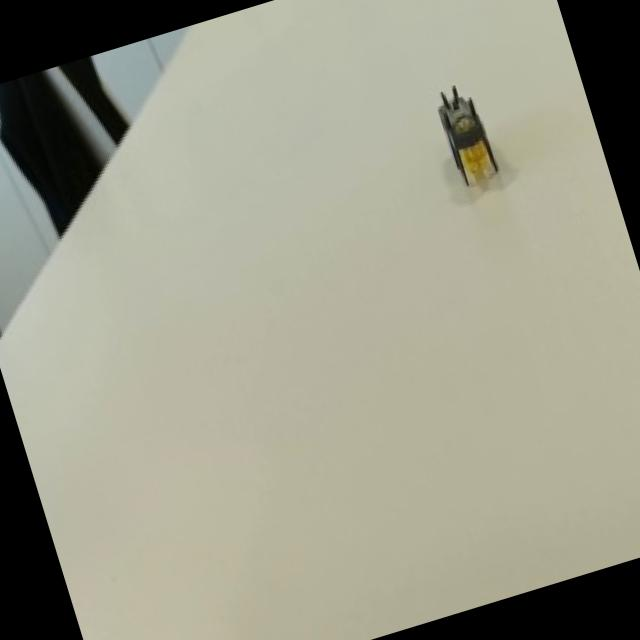6_NanoBug_GrisOscuro: (399, 51, 529, 224)
